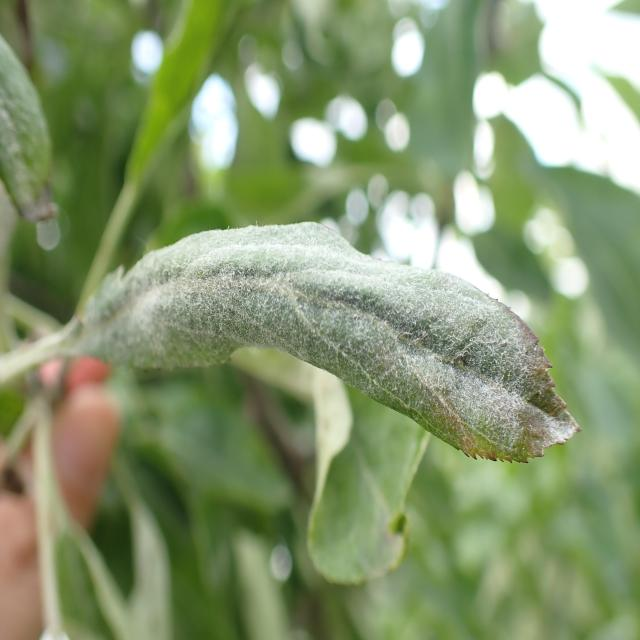Powdery_mildew: (74, 218, 579, 472), (0, 18, 79, 252)
